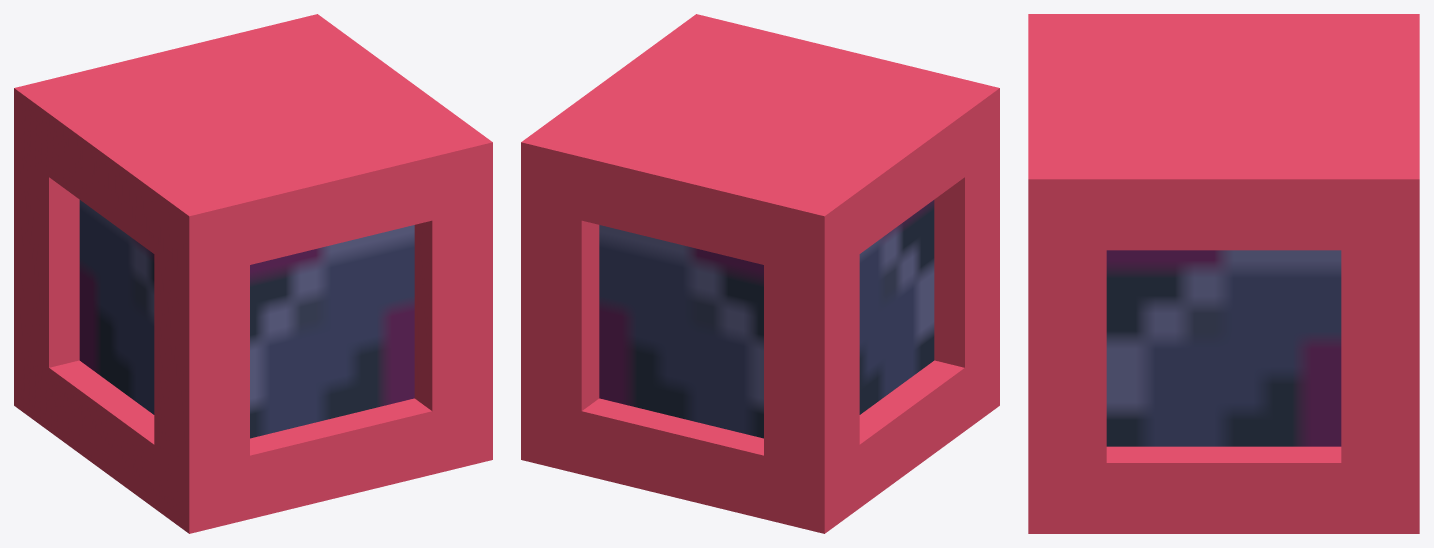
Rendered from RocketAmmo.fbx.
3 views of the same model, side by side, from view 1: azimuth 30°, elevation 25°; view 2: azimuth 150°, elevation 25°; view 3: azimuth 270°, elevation 25° (orthographic). The views are drawn at different scales.
Parts seen in each view (by area): view 1: Object; view 2: Object; view 3: Object.
Boxes of the visible parts, bbox=[...] form: Object: bbox=[14, 14, 492, 533]; Object: bbox=[521, 14, 999, 533]; Object: bbox=[1028, 14, 1419, 533].
Bounding box in the file's own units: 10 × 10 × 10.
